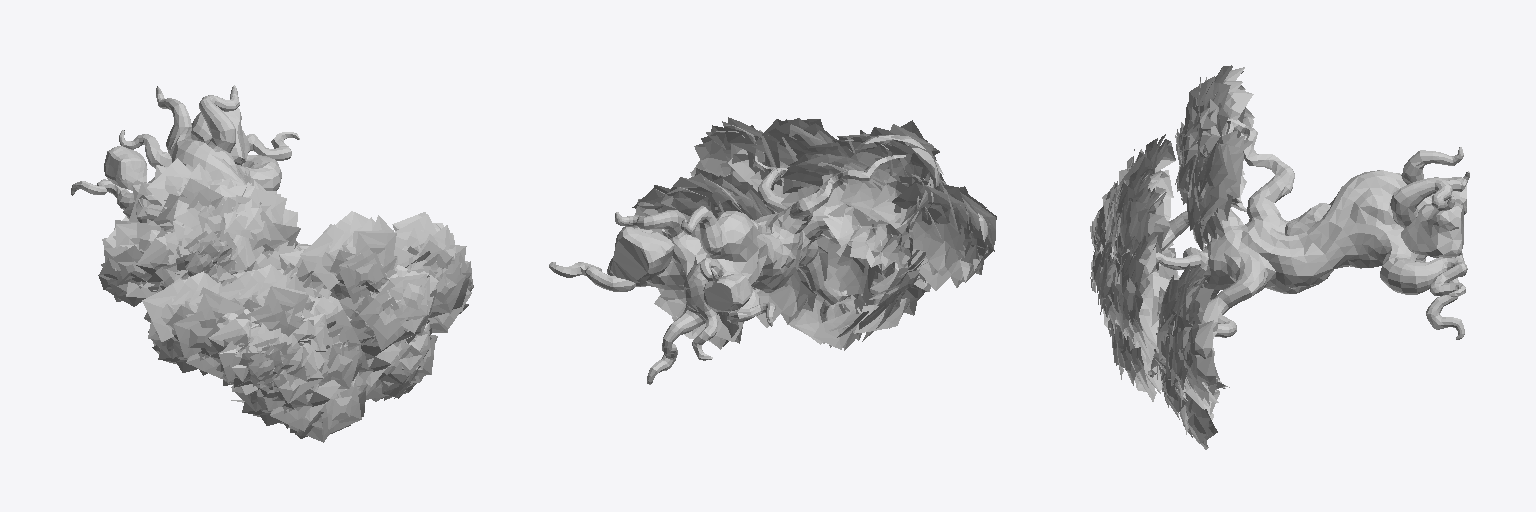
Rendered from 3D_Cartoonish_Tree.obj.
3 views of the same model, side by side, from view 1: azimuth 30°, elevation 25°; view 2: azimuth 150°, elevation 25°; view 3: azimuth 270°, elevation 25° (orthographic).
Visible parts, largest first — view 1: mesh0_dat_desirefx_me_out_1, mesh0_dat_desirefx_me_out_2, mesh4_dat_desirefx_me_out, mesh3_dat_desirefx_me_out, mesh2_dat_desirefx_me_out; view 2: mesh0_dat_desirefx_me_out_1, mesh4_dat_desirefx_me_out, mesh2_dat_desirefx_me_out, mesh0_dat_desirefx_me_out_2, mesh3_dat_desirefx_me_out; view 3: mesh0_dat_desirefx_me_out_1, mesh4_dat_desirefx_me_out, mesh0_dat_desirefx_me_out_2, mesh2_dat_desirefx_me_out, mesh1_dat_desirefx_me_out.
Part boxes in pixels (x1,y1,x2,y2): mesh0_dat_desirefx_me_out_1: (98,158,473,442); mesh0_dat_desirefx_me_out_2: (118,176,471,428); mesh4_dat_desirefx_me_out: (71,85,310,251); mesh3_dat_desirefx_me_out: (104,146,147,190); mesh2_dat_desirefx_me_out: (191,108,248,165); mesh0_dat_desirefx_me_out_1: (632,117,996,350); mesh4_dat_desirefx_me_out: (549,155,905,384); mesh2_dat_desirefx_me_out: (609,227,674,282); mesh0_dat_desirefx_me_out_2: (670,132,990,329); mesh3_dat_desirefx_me_out: (703,274,752,311); mesh0_dat_desirefx_me_out_1: (1090,65,1254,449); mesh4_dat_desirefx_me_out: (1148,118,1469,376); mesh0_dat_desirefx_me_out_2: (1090,70,1232,430); mesh2_dat_desirefx_me_out: (1401,202,1463,257); mesh1_dat_desirefx_me_out: (1285,203,1330,235).
Bounding box in the file's own units: 8.9 × 6.58 × 8.11.